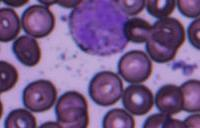E: (69, 0, 129, 57)
